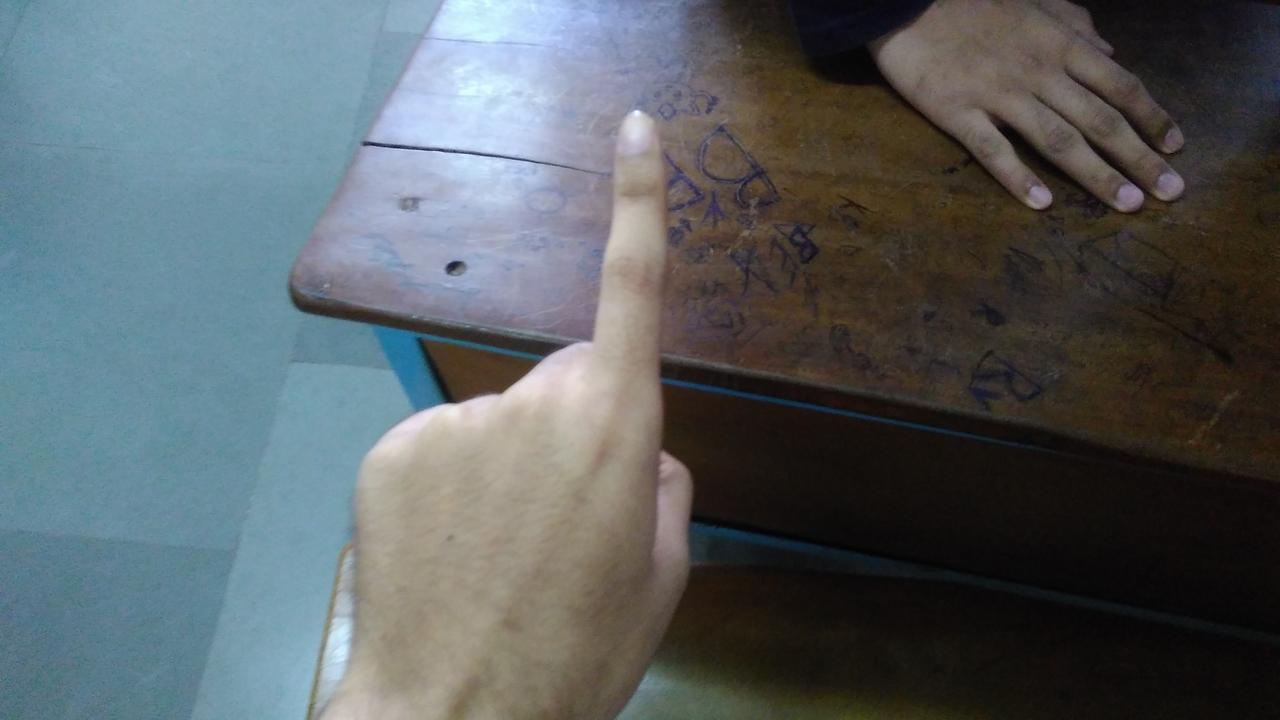fingertip: (608, 104, 668, 164)
